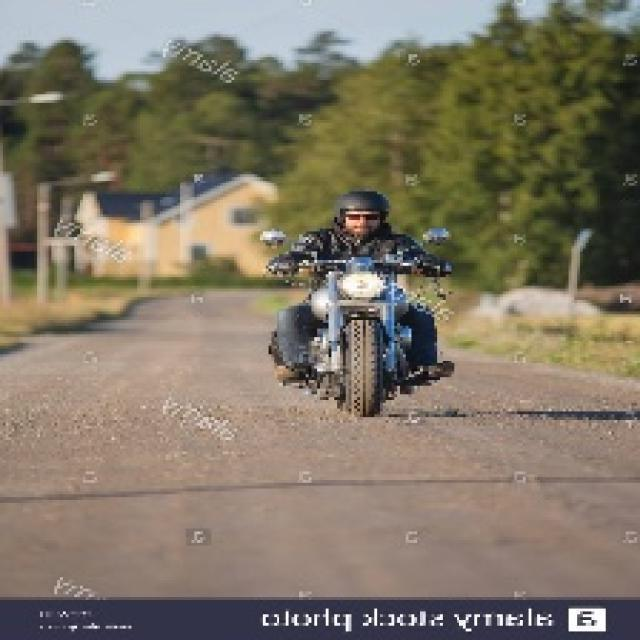motorcycle: (284, 255, 429, 422)
